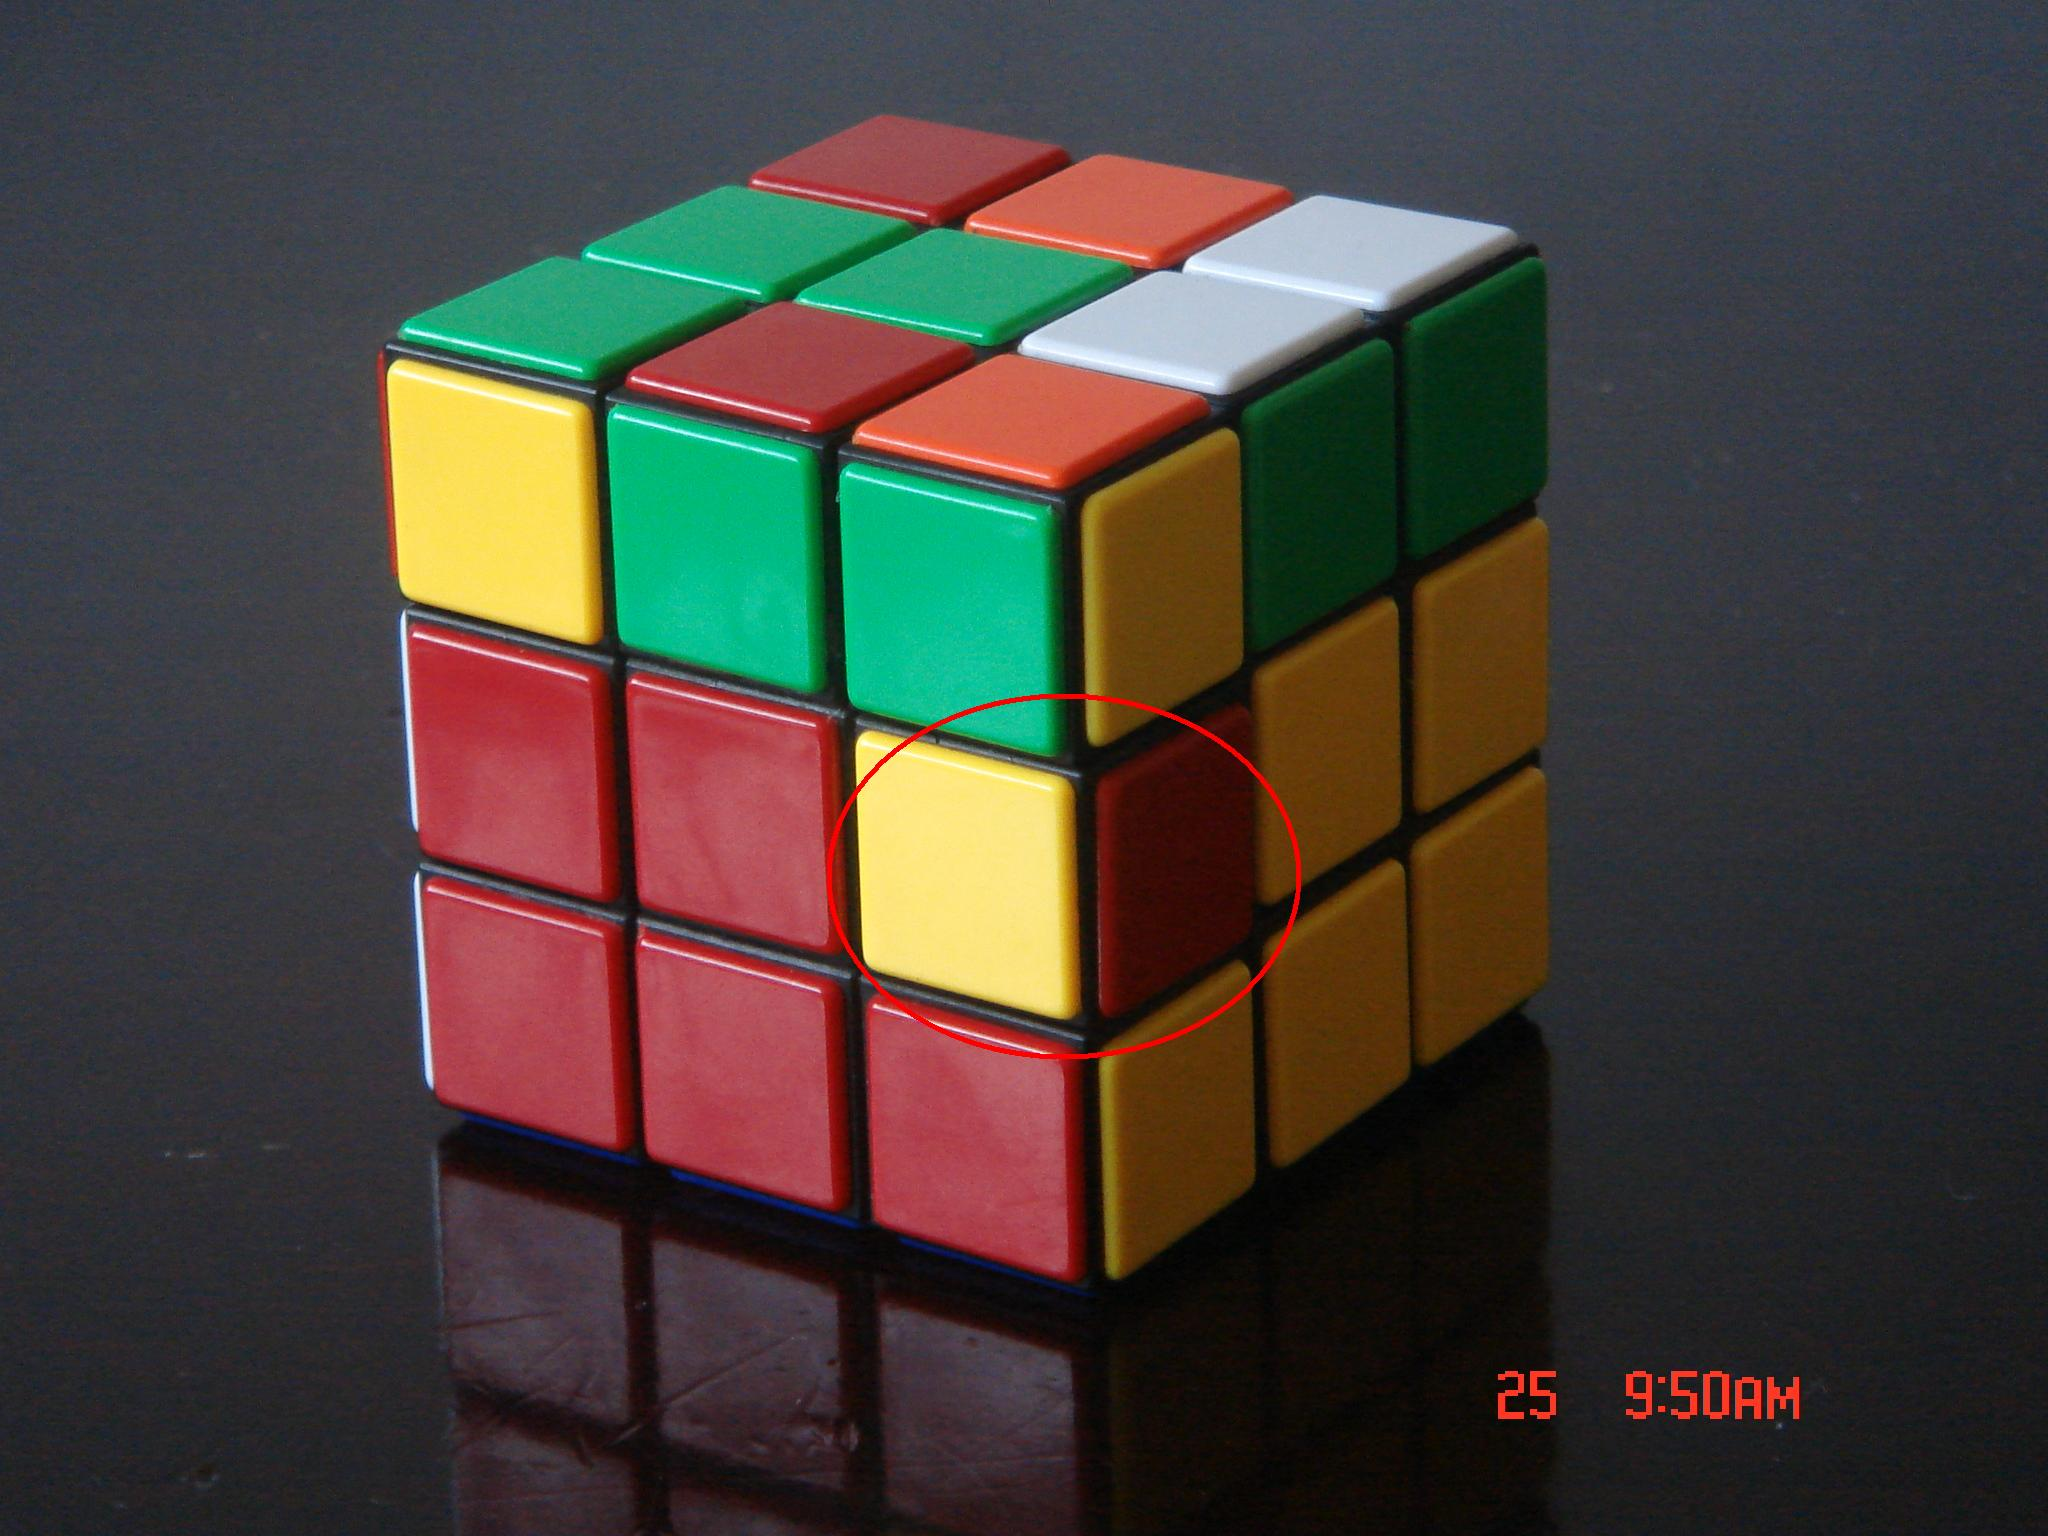cube: (323, 60, 1635, 1346)
